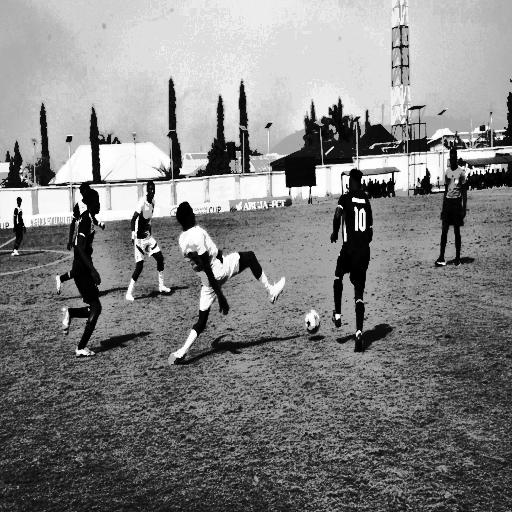ball: (302, 304, 323, 337)
referee: (435, 144, 471, 274)
team1: (158, 198, 298, 371), (126, 168, 174, 304)
team2: (58, 178, 103, 376), (332, 170, 374, 360), (12, 190, 26, 263)
